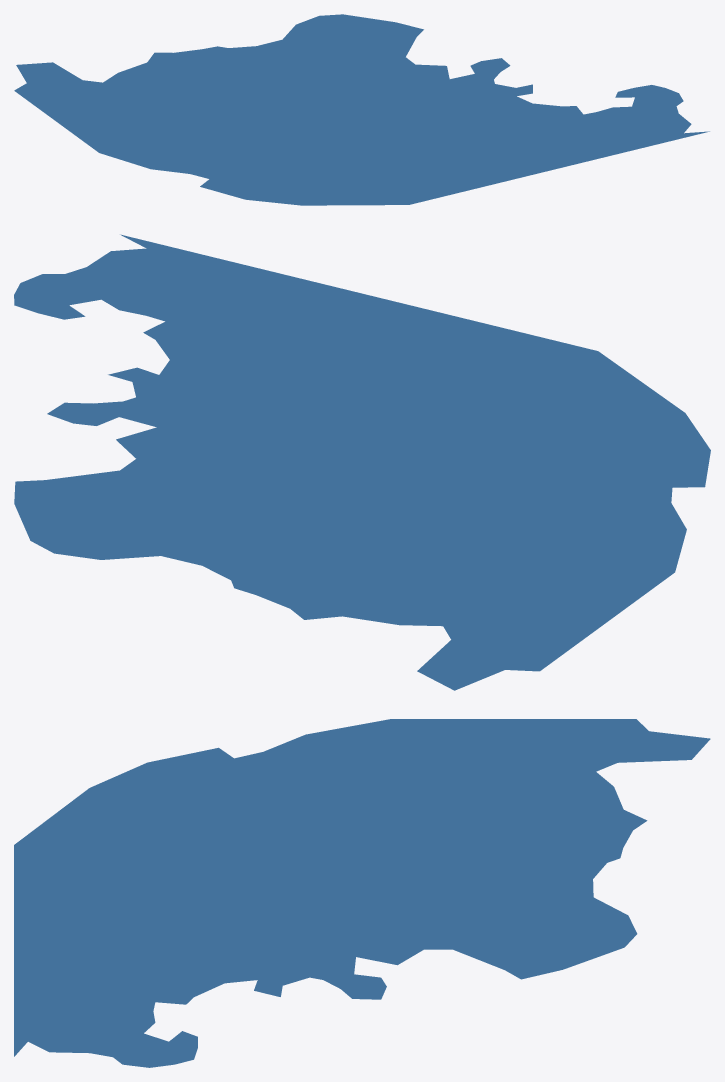
The picture shows the model from 3 angles, top to bottom: view 1: azimuth 30°, elevation 25°; view 2: azimuth 150°, elevation 25°; view 3: azimuth 270°, elevation 25°; orthographic projection. The views are drawn at different scales.
Visible parts, largest first — view 1: water; view 2: water; view 3: water.
Boxes of the visible parts, <box> form: water: <box>14,14,709,205</box>; water: <box>14,234,710,690</box>; water: <box>14,719,710,1067</box>.
Size of what is drawn, in the model's own units: 140 by 0 by 118.
